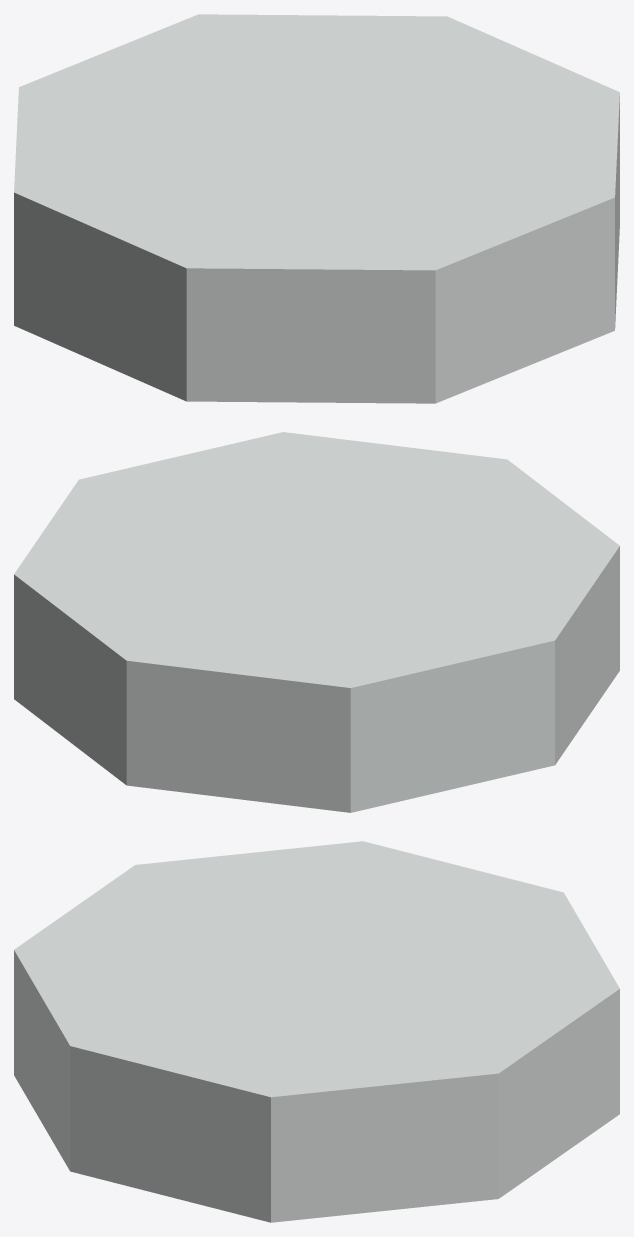
The model's file is Pill.fbx.
The picture shows the model from 3 angles, top to bottom: view 1: azimuth 30°, elevation 25°; view 2: azimuth 150°, elevation 25°; view 3: azimuth 270°, elevation 25°; orthographic projection. The views are drawn at different scales.
Parts seen in each view (by area): view 1: Cylinder; view 2: Cylinder; view 3: Cylinder.
Part boxes in pixels (x1=…): Cylinder: x1=14, y1=14, x2=619, y2=403; Cylinder: x1=14, y1=432, x2=619, y2=812; Cylinder: x1=14, y1=841, x2=619, y2=1222.
Size of the model in its own units: 52.09 by 11.9 by 52.09.
